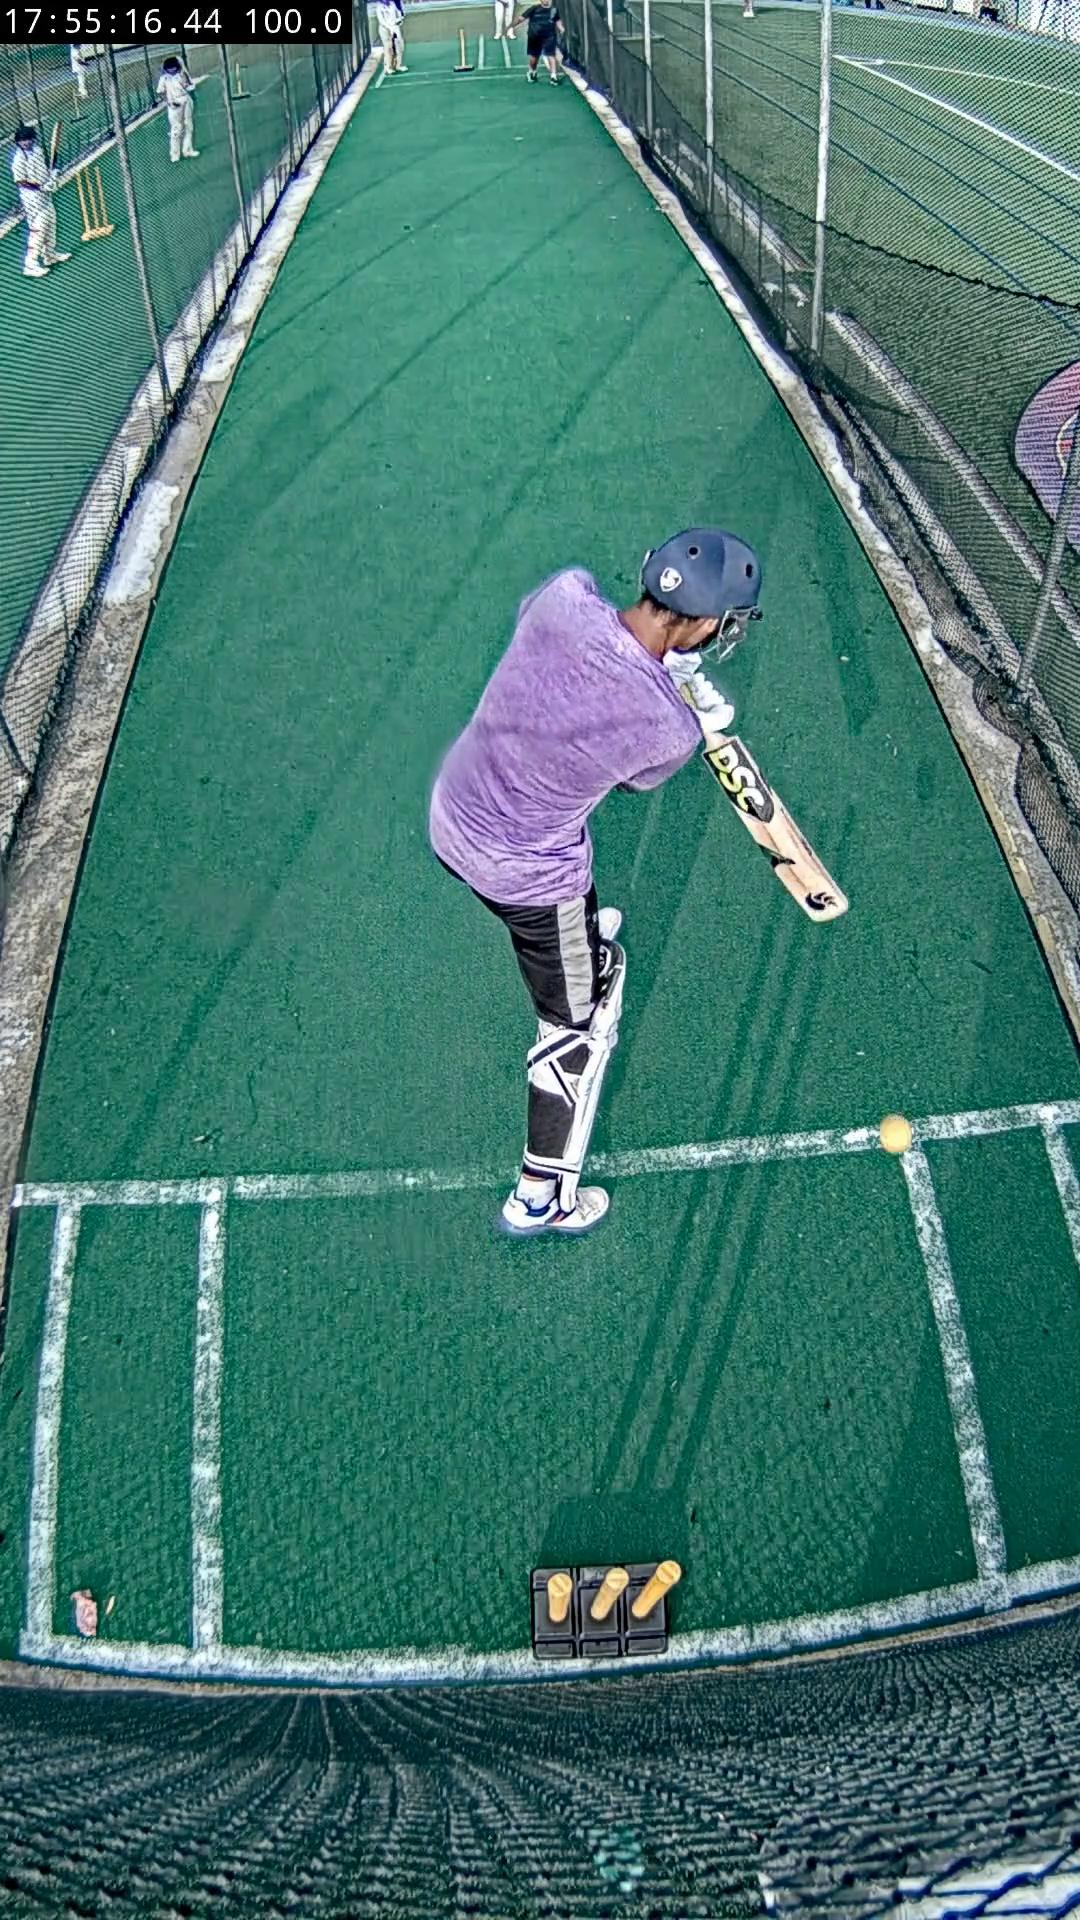ball: (877, 1114, 911, 1155)
bat: (705, 732, 848, 923)
gloves: (663, 649, 735, 729)
helmet: (641, 529, 761, 659)
pads: (562, 938, 626, 1207)
stumps: (533, 1560, 683, 1662)
